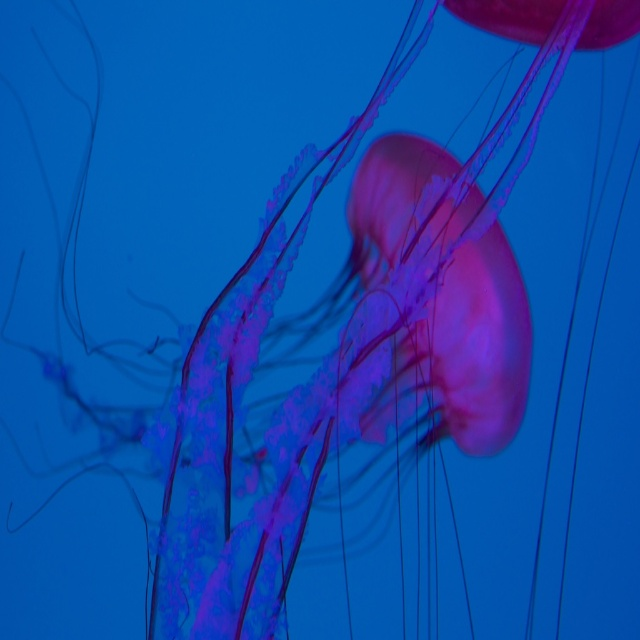Jellyfish: (0, 0, 537, 639)
